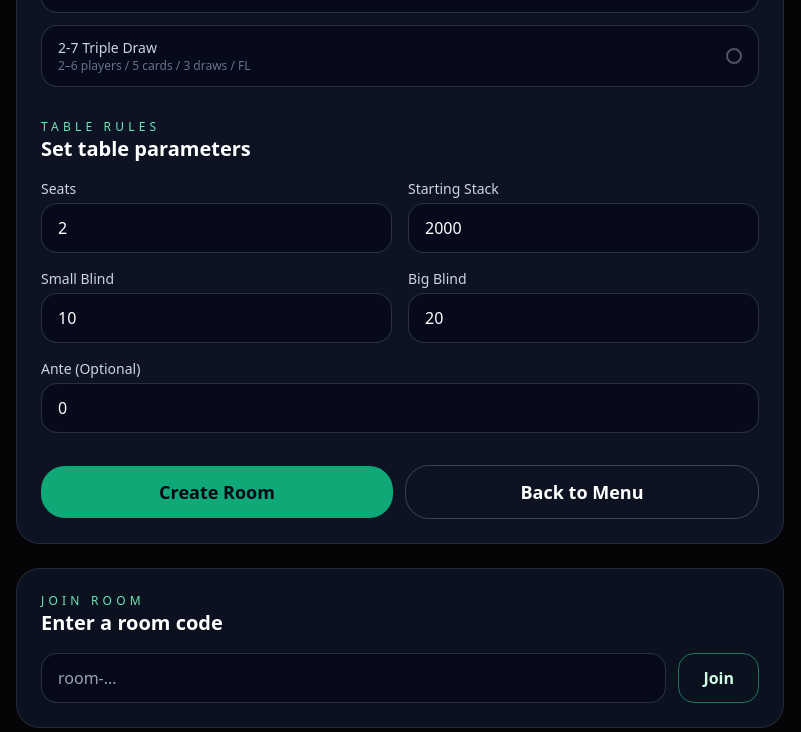
FriendMatchSetupScreen › keeps websocket close code 4001 terminal
The image size is (801, 732).
(page scrolled)
Click the button "Create Room": (217, 492) [41,466,393,518]
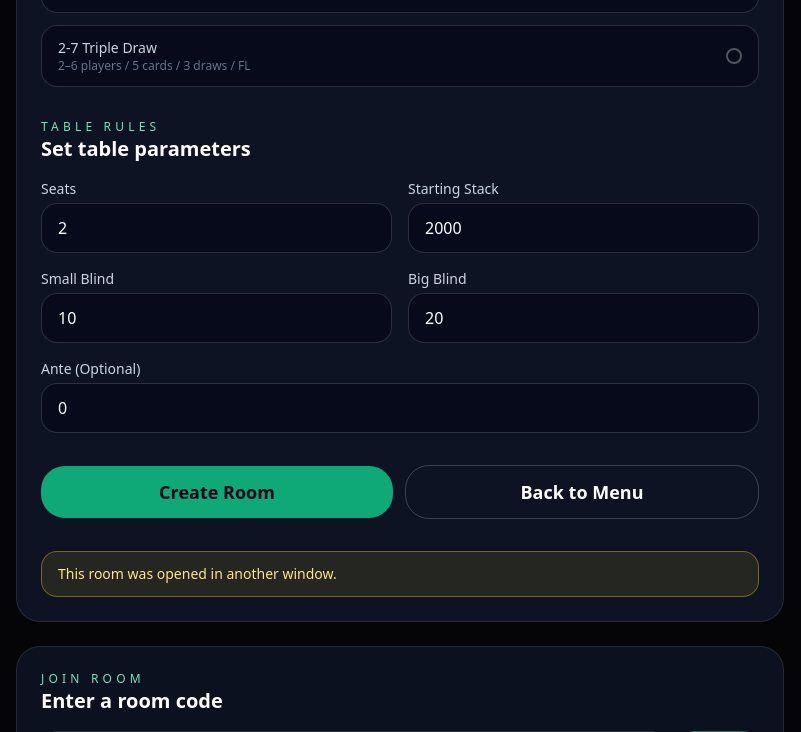
Check: the text "This room was opened in another window." is shown, box [41,551,759,597]
